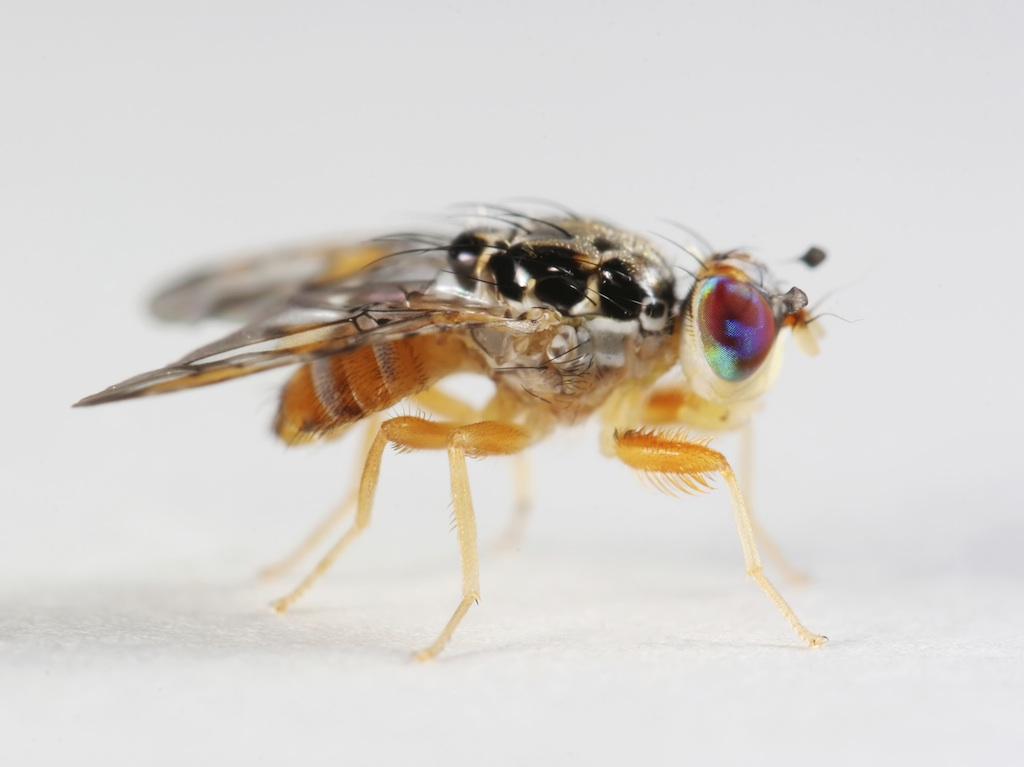phorid fly: (63, 137, 890, 683)
